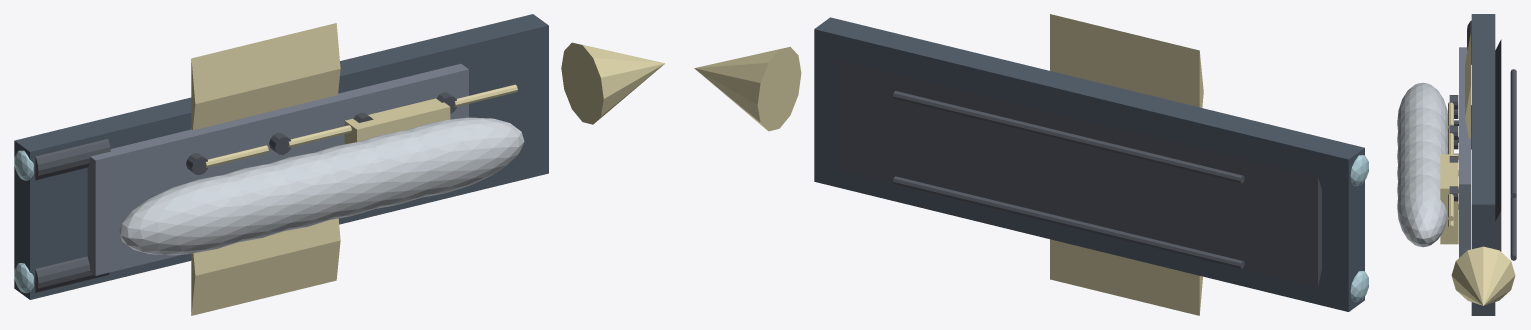
The model's file is SWS-009_highwind_dreadnought.glb.
3 views of the same model, side by side, from view 1: azimuth 30°, elevation 25°; view 2: azimuth 150°, elevation 25°; view 3: azimuth 270°, elevation 25° (orthographic). The views are drawn at different scales.
Visible parts, largest first — view 1: main_hull, upper_deck, wing_1, wing_-1, aether_lift_bladder_1, aether_lift_bladder_6, aether_nose, aether_lift_bladder_5, aether_lift_bladder_3, aether_lift_bladder_4, aether_lift_bladder_2, bridge (+7 smaller); view 2: keel, main_hull, wing_1, wing_-1, aether_nose, landing_skid_-1, landing_skid_1; view 3: main_hull, aether_lift_bladder_6, aether_nose, upper_deck, keel, bridge, aether_lift_bladder_1, aether_lift_bladder_2, landing_skid_1, aether_lift_bladder_3, aether_lift_bladder_4, aether_lift_bladder_5 (+9 smaller).
Boxes of the visible parts, x1,y1,x2,y2 form: main_hull: (14, 14, 548, 299); upper_deck: (87, 63, 468, 275); wing_1: (191, 23, 340, 130); wing_-1: (191, 218, 340, 315); aether_lift_bladder_1: (119, 175, 246, 255); aether_lift_bladder_6: (406, 117, 524, 197); aether_nose: (561, 42, 664, 124); aether_lift_bladder_5: (360, 130, 429, 208); aether_lift_bladder_3: (269, 152, 338, 230); aether_lift_bladder_4: (315, 141, 383, 219); aether_lift_bladder_2: (224, 164, 292, 241); bridge: (344, 98, 450, 144); keel: (837, 60, 1321, 286); main_hull: (814, 17, 1364, 311); wing_1: (1050, 14, 1203, 107); wing_-1: (1050, 239, 1202, 315); aether_nose: (694, 46, 801, 131); landing_skid_-1: (893, 176, 1244, 268); landing_skid_1: (893, 91, 1244, 183); main_hull: (1471, 14, 1495, 315); aether_lift_bladder_6: (1397, 174, 1447, 247); aether_nose: (1451, 246, 1515, 305); upper_deck: (1459, 47, 1470, 257); keel: (1495, 39, 1501, 251); bridge: (1440, 154, 1458, 244); aether_lift_bladder_1: (1397, 82, 1447, 129); aether_lift_bladder_2: (1397, 107, 1448, 146); landing_skid_1: (1510, 69, 1516, 198); aether_lift_bladder_3: (1397, 124, 1447, 163); aether_lift_bladder_4: (1397, 141, 1444, 179); aether_lift_bladder_5: (1397, 157, 1440, 196).
Size of the model in its own units: 138 by 52.2 by 29.19.
